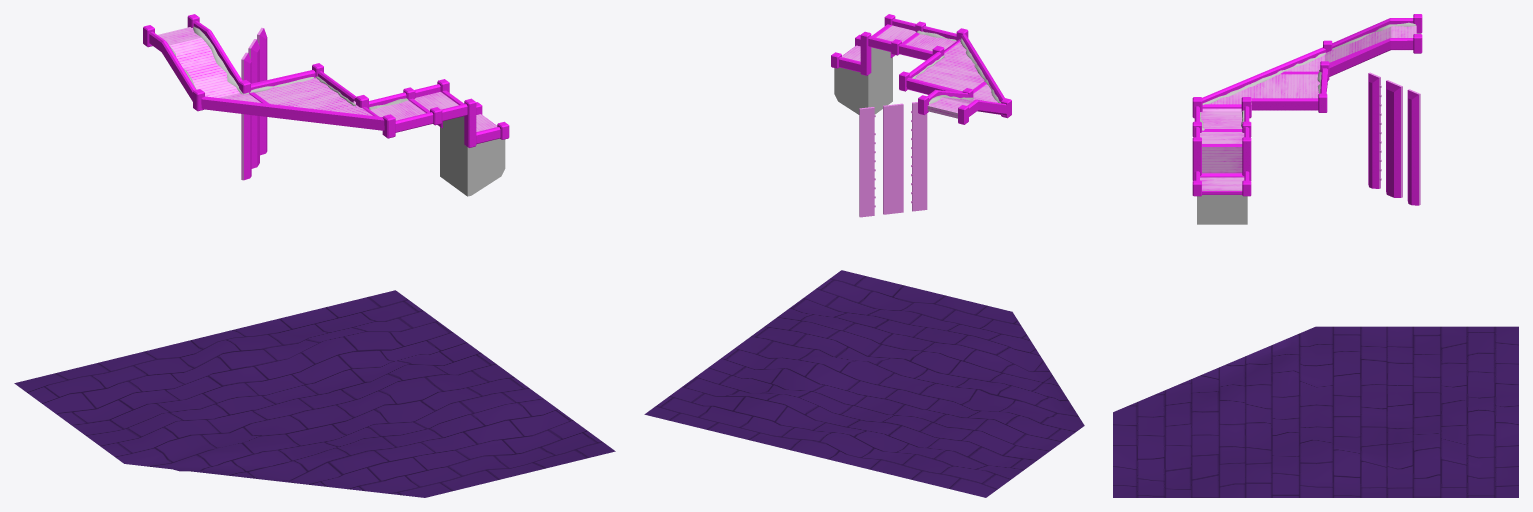
Rendered from Winter_updates.fbx.
3 views of the same model, side by side, from view 1: azimuth 30°, elevation 25°; view 2: azimuth 150°, elevation 25°; view 3: azimuth 270°, elevation 25° (orthographic). The views are drawn at different scales.
Visible parts, largest first — view 1: Snow, Winter_floor, Winter_moving_platform_base; view 2: Snow, Winter_floor, Winter_moving_platform_base; view 3: Snow, Winter_floor, Winter_moving_platform_base.
Boxes of the visible parts, bbox=[...] form: Snow: bbox=[14, 290, 615, 497]; Winter_floor: bbox=[143, 14, 509, 196]; Winter_moving_platform_base: bbox=[241, 27, 267, 180]; Snow: bbox=[644, 270, 1084, 497]; Winter_floor: bbox=[831, 14, 1011, 124]; Winter_moving_platform_base: bbox=[859, 102, 927, 217]; Snow: bbox=[1113, 326, 1518, 497]; Winter_floor: bbox=[1192, 14, 1422, 224]; Winter_moving_platform_base: bbox=[1368, 72, 1420, 205].
Size of the model in its own units: 1562 by 1501 by 1562.
